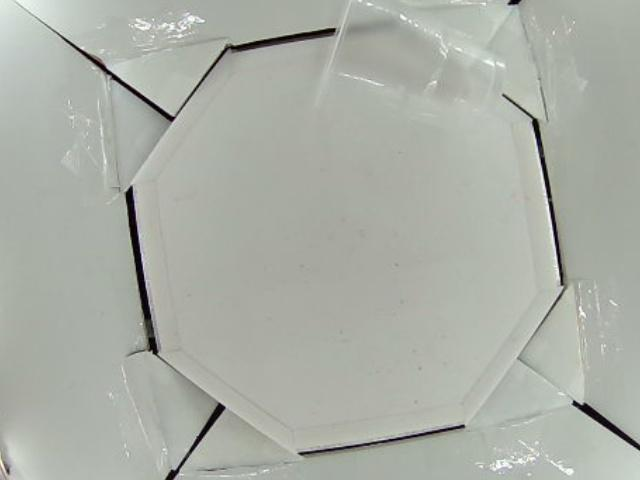Cup: (314, 1, 506, 135)
